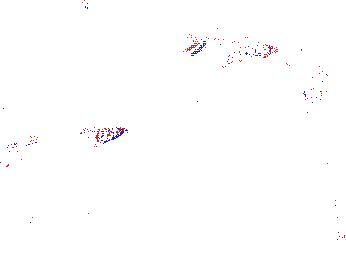glassfish: (2, 119, 129, 158)
redtail glassfish: (186, 27, 280, 68), (285, 46, 339, 79), (300, 81, 324, 110)
